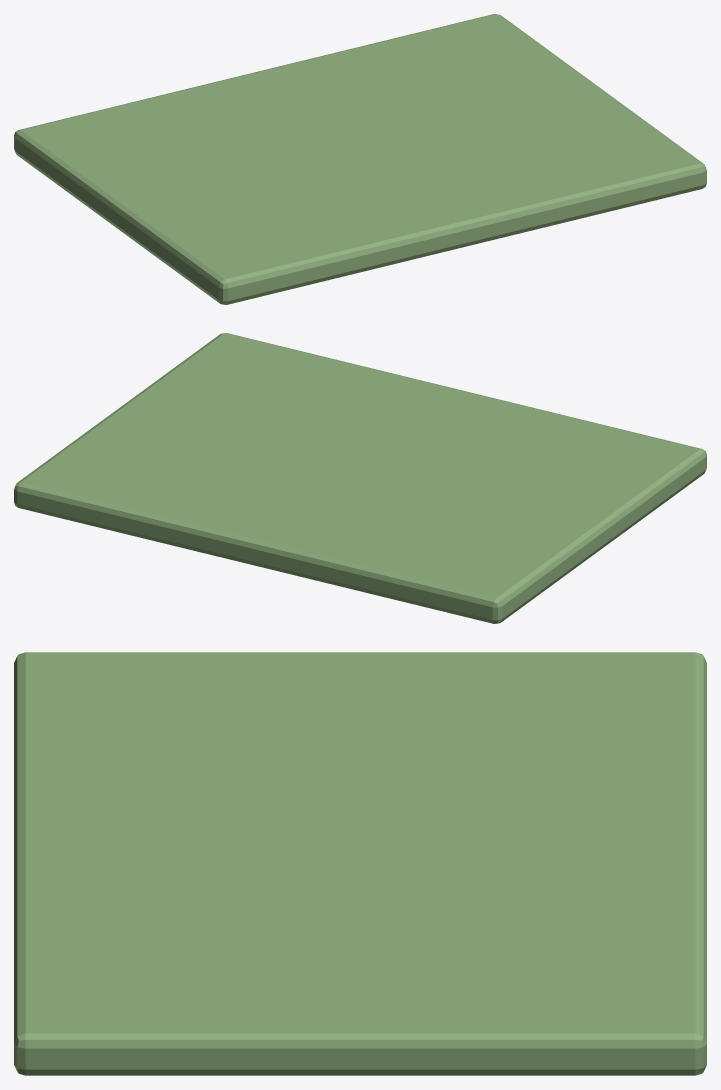
The model's file is skylight_frame.glb.
3 renders of one model, top to bottom at view 1: azimuth 30°, elevation 25°; view 2: azimuth 150°, elevation 25°; view 3: azimuth 270°, elevation 25°, orthographic. The views are drawn at different scales.
Visible parts, largest first — view 1: skylight_frame; view 2: skylight_frame; view 3: skylight_frame.
Part boxes in pixels (x1,y1,x2,y2): skylight_frame: [14, 14, 706, 304]; skylight_frame: [14, 333, 706, 623]; skylight_frame: [14, 652, 706, 1075].
Size of the model in its own units: 1.6 by 0.08 by 1.2.
